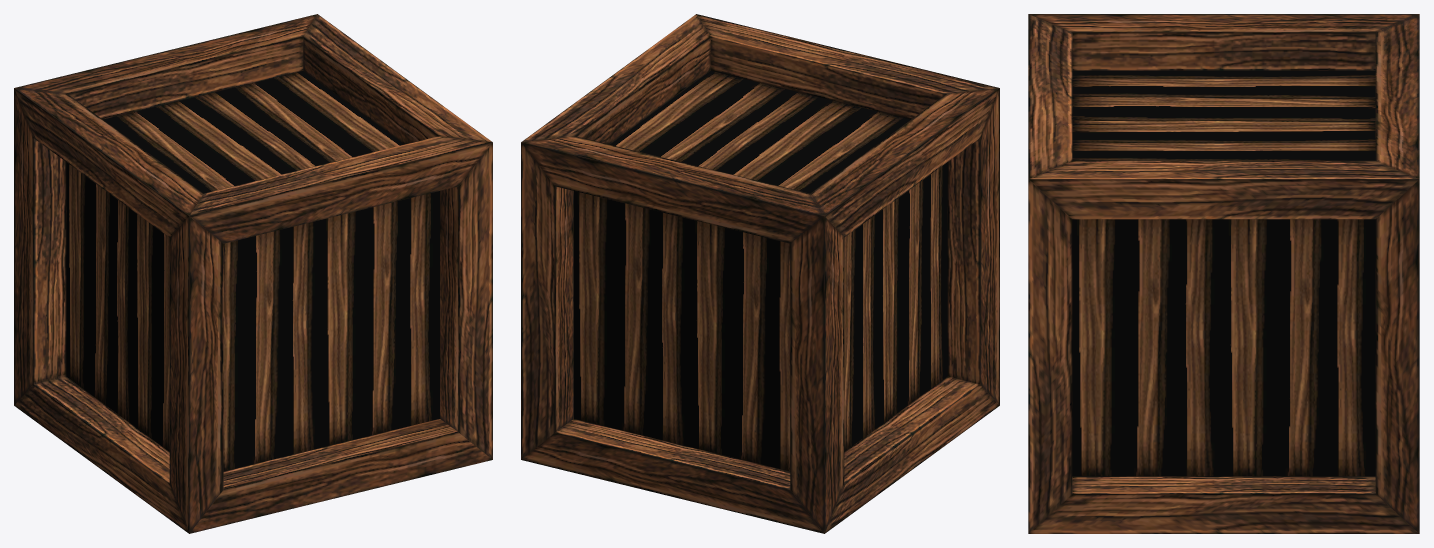
File: INST_LT_CRATESLATS.fbx
The picture shows the model from 3 angles, left to right: view 1: azimuth 30°, elevation 25°; view 2: azimuth 150°, elevation 25°; view 3: azimuth 270°, elevation 25°; orthographic projection. The views are drawn at different scales.
Parts seen in each view (by area): view 1: INST_LT_CRATESLATS; view 2: INST_LT_CRATESLATS; view 3: INST_LT_CRATESLATS.
Part boxes in pixels (bbox=[...]): INST_LT_CRATESLATS: bbox=[14, 14, 492, 533]; INST_LT_CRATESLATS: bbox=[521, 14, 999, 533]; INST_LT_CRATESLATS: bbox=[1028, 14, 1419, 533].
Size of the model in its own units: 10000 by 10000 by 10000.
2 materials, 2 textured.
